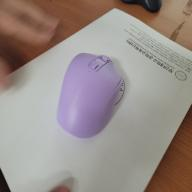mouse: (55, 51, 122, 141)
